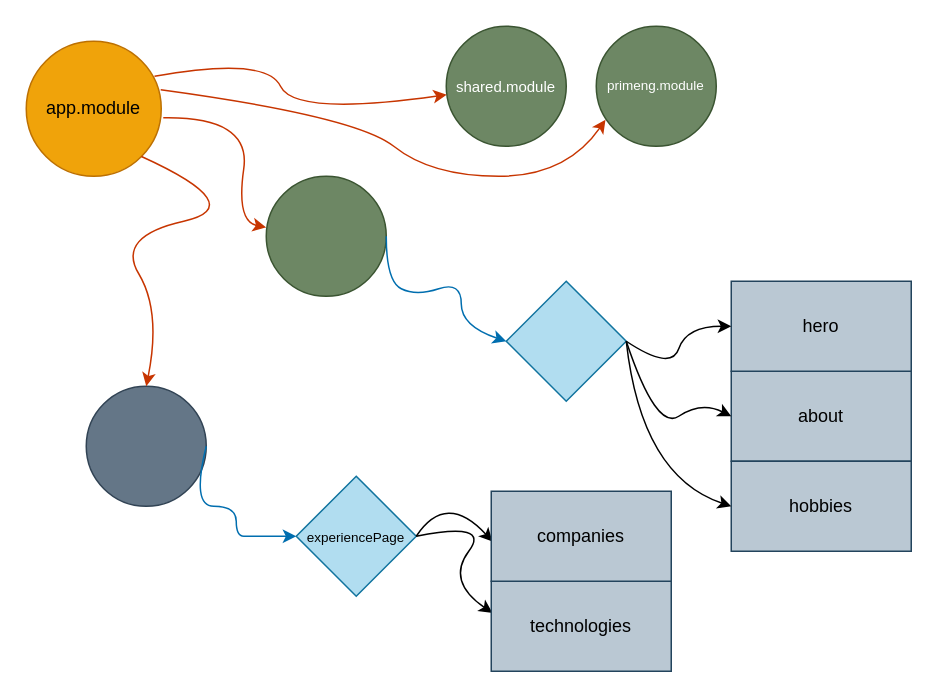
Some shapes in this 938 by 698 pixel diagram are drawn without their labels. The box of each missing label's shape, as (x1, y1, x2, y2) in pixels:
experience.module: (85, 385, 206, 506)
home.module: (265, 175, 386, 296)
homePage: (505, 280, 626, 401)
